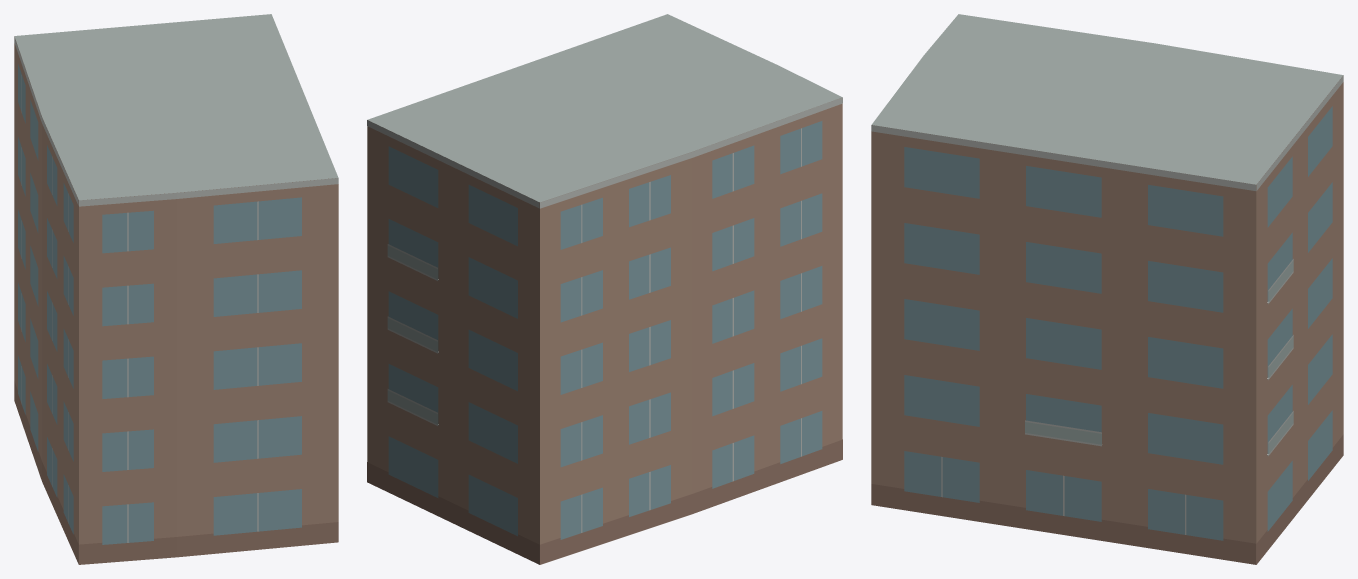
File: survey-upis-32854282.glb
The picture shows the model from 3 angles, left to right: view 1: azimuth 30°, elevation 25°; view 2: azimuth 150°, elevation 25°; view 3: azimuth 270°, elevation 25°; orthographic projection. The views are drawn at different scales.
Visible parts, largest first — view 1: survey-upis-32854282.tmp; view 2: survey-upis-32854282.tmp; view 3: survey-upis-32854282.tmp.
Part boxes in pixels (<box>): survey-upis-32854282.tmp: <box>14,14,338,564</box>; survey-upis-32854282.tmp: <box>367,14,842,564</box>; survey-upis-32854282.tmp: <box>871,14,1343,564</box>.
Bounding box in the file's own units: 13.69 × 14.2 × 15.99.
